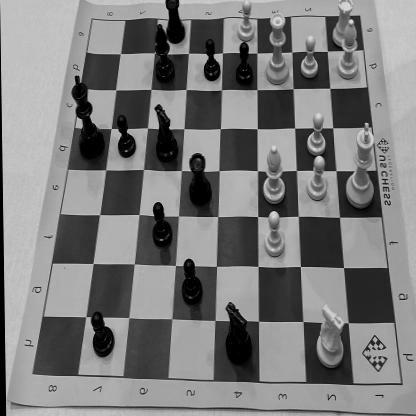black-bishop: (152, 20, 174, 84)
black-king: (68, 69, 106, 164)
black-knight: (220, 294, 253, 368), (149, 98, 180, 166)
black-pawn: (176, 254, 204, 310), (88, 303, 116, 358), (148, 194, 174, 251), (113, 109, 140, 161), (198, 37, 224, 85), (233, 40, 257, 86)
black-rook: (183, 143, 216, 214), (161, 0, 190, 47)
white-bishop: (258, 140, 289, 210), (332, 13, 361, 86)
white-king: (340, 119, 384, 211)
white-knight: (310, 300, 350, 373)
white-pawn: (259, 206, 289, 262), (303, 152, 330, 205), (296, 30, 322, 82), (233, 0, 260, 45), (305, 107, 328, 158)
white-queen: (261, 6, 291, 88)
white-rook: (328, 0, 358, 51)
